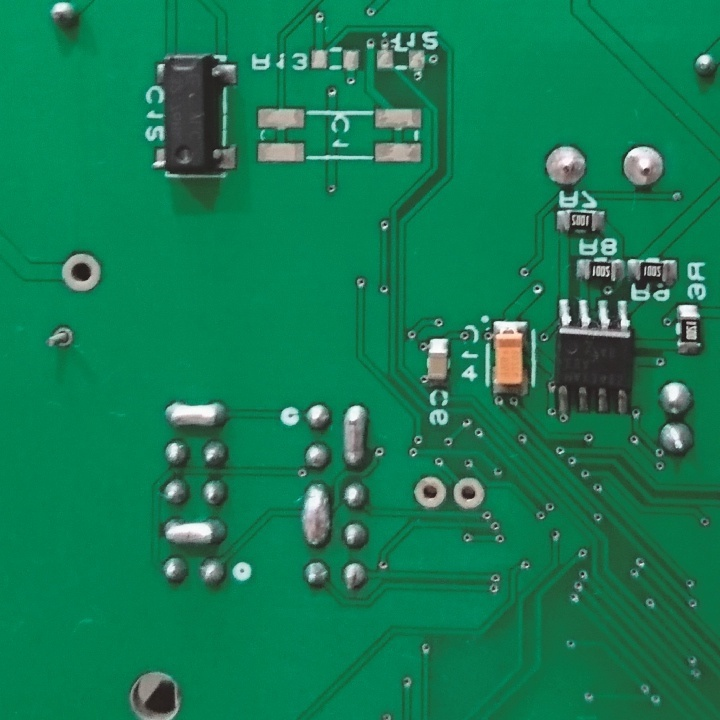F: (621, 141, 667, 193), (543, 141, 591, 190), (59, 246, 106, 295), (411, 472, 447, 512), (450, 475, 487, 512), (41, 320, 77, 355)
P: (297, 482, 336, 551), (161, 399, 235, 434), (159, 516, 233, 548), (338, 404, 370, 468)
